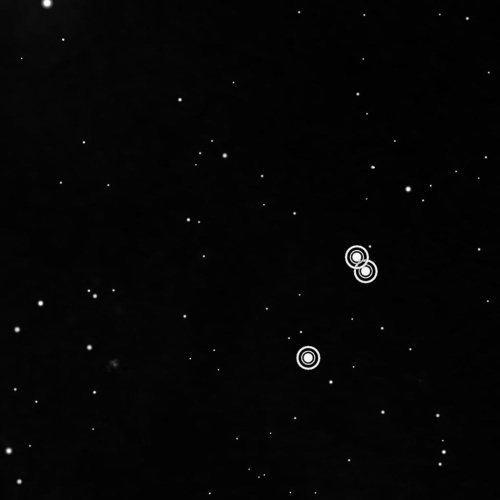canis_minor: (292, 239, 385, 379)
